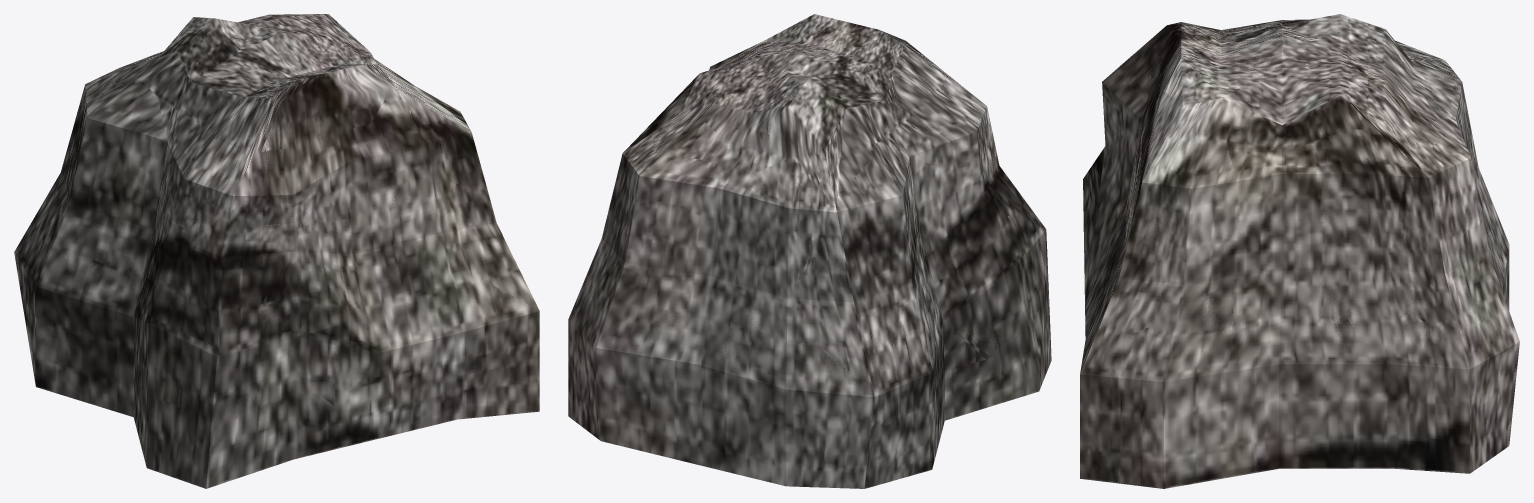
The model's file is BreakableRock.fbx.
3 renders of one model, left to right at view 1: azimuth 30°, elevation 25°; view 2: azimuth 150°, elevation 25°; view 3: azimuth 270°, elevation 25°, orthographic. The views are drawn at different scales.
Visible parts, largest first — view 1: pCube12, pCube12_cell.016, pCube12_cell.040, pCube12_cell.027, pCube12_cell.013, pCube12_cell.042, pCube12_cell.025, pCube12_cell.081, pCube12_cell.034, pCube12_cell.007, pCube12_cell.078, pCube12_cell.064 (+25 smaller); view 2: pCube12, pCube12_cell, pCube12_cell.011, pCube12_cell.017, pCube12_cell.081, pCube12_cell.071, pCube12_cell.083, pCube12_cell.013, pCube12_cell.076, pCube12_cell.063, pCube12_cell.092, pCube12_cell.032 (+30 smaller); view 3: pCube12, pCube12_cell.037, pCube12_cell.001, pCube12_cell.033, pCube12_cell.072, pCube12_cell.029, pCube12_cell.079, pCube12_cell.052, pCube12_cell.057, pCube12_cell.065, pCube12_cell.046, pCube12_cell.040 (+29 smaller).
Part boxes in pixels (<box>): pCube12: <box>14,14,539,488</box>; pCube12_cell.016: <box>407,277,501,386</box>; pCube12_cell.040: <box>326,199,406,309</box>; pCube12_cell.027: <box>257,291,343,405</box>; pCube12_cell.013: <box>25,228,89,351</box>; pCube12_cell.042: <box>322,294,416,406</box>; pCube12_cell.025: <box>44,146,115,269</box>; pCube12_cell.081: <box>142,275,192,404</box>; pCube12_cell.034: <box>307,131,389,215</box>; pCube12_cell.007: <box>258,204,330,306</box>; pCube12_cell.078: <box>169,137,235,222</box>; pCube12_cell.064: <box>124,97,203,185</box>; pCube12: <box>568,16,1051,488</box>; pCube12_cell: <box>646,312,747,424</box>; pCube12_cell.011: <box>677,160,759,241</box>; pCube12_cell.017: <box>742,247,821,343</box>; pCube12_cell.081: <box>965,216,1038,345</box>; pCube12_cell.071: <box>742,341,832,439</box>; pCube12_cell.083: <box>750,182,812,254</box>; pCube12_cell.013: <box>892,320,938,433</box>; pCube12_cell.076: <box>668,225,753,326</box>; pCube12_cell.063: <box>930,270,998,395</box>; pCube12_cell.092: <box>623,150,683,229</box>; pCube12_cell.032: <box>857,152,911,247</box>; pCube12: <box>1080,19,1519,488</box>; pCube12_cell.037: <box>1122,327,1221,435</box>; pCube12_cell.001: <box>1331,221,1413,323</box>; pCube12_cell.033: <box>1149,233,1235,340</box>; pCube12_cell.072: <box>1228,149,1326,225</box>; pCube12_cell.029: <box>1336,314,1433,418</box>; pCube12_cell.079: <box>1431,312,1494,421</box>; pCube12_cell.052: <box>1411,216,1481,327</box>; pCube12_cell.057: <box>1327,138,1400,225</box>; pCube12_cell.065: <box>1231,97,1328,149</box>; pCube12_cell.046: <box>1164,181,1239,236</box>; pCube12_cell.040: <box>1096,150,1133,273</box>.
Size of the model in its own units: 531 by 478 by 522.
